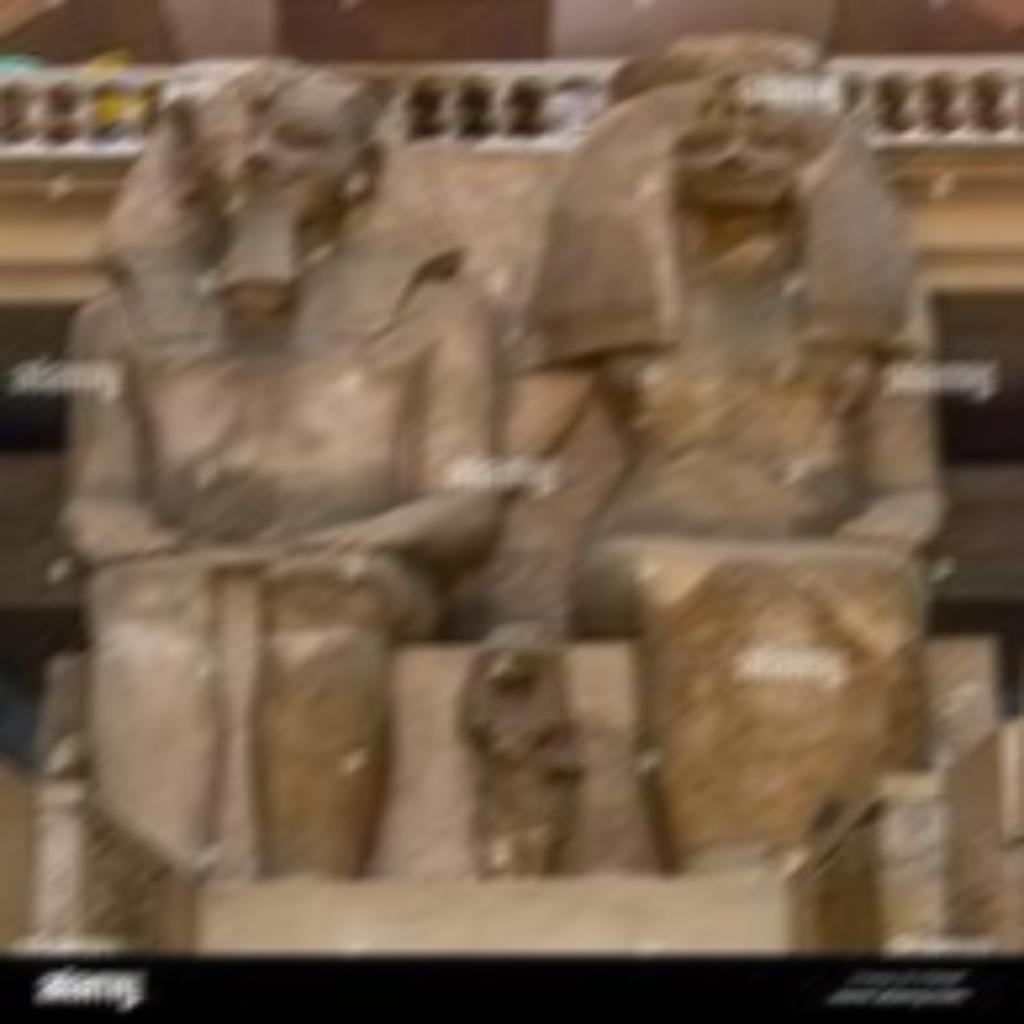Amenhotep III and Tiye: (64, 60, 952, 886)
